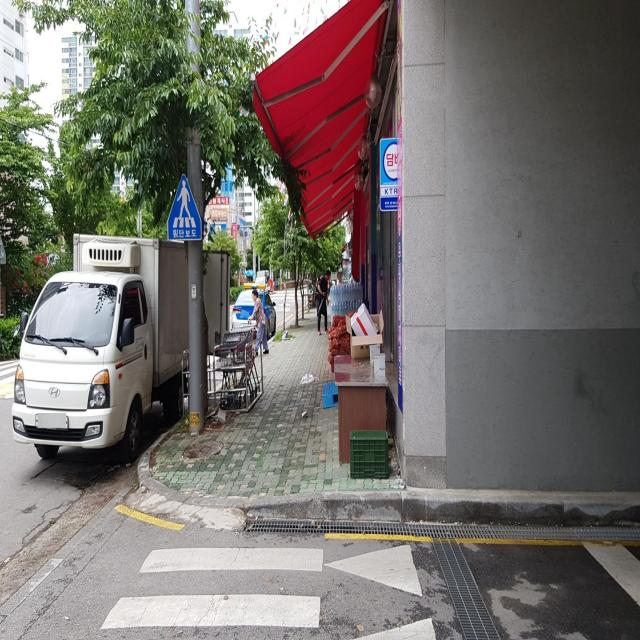횡단보도: (97, 543, 324, 632)
